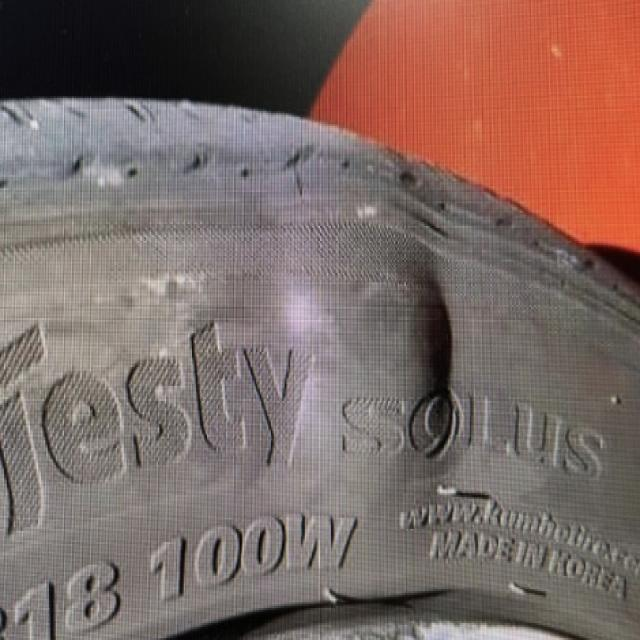Bulge: (233, 160, 475, 551)
